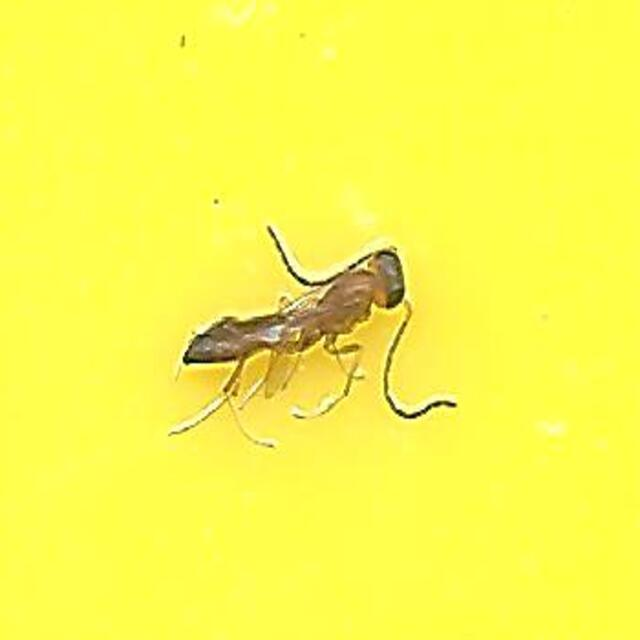Hymenoptera: (183, 221, 457, 419)
